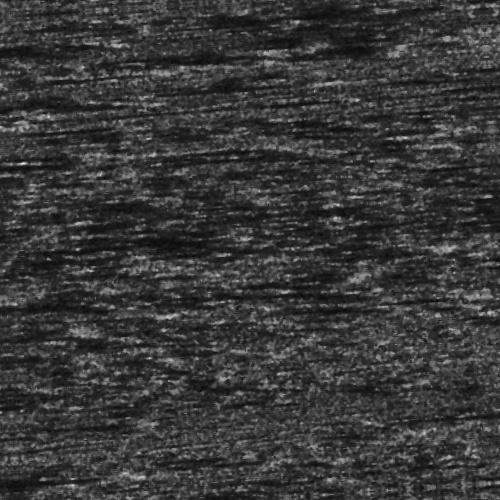object: (48, 455, 153, 474), (281, 82, 354, 89), (69, 27, 122, 36)
shadow: (0, 455, 100, 474), (169, 82, 317, 89), (0, 27, 95, 36), (412, 220, 500, 229), (406, 427, 500, 432), (442, 96, 500, 103)
